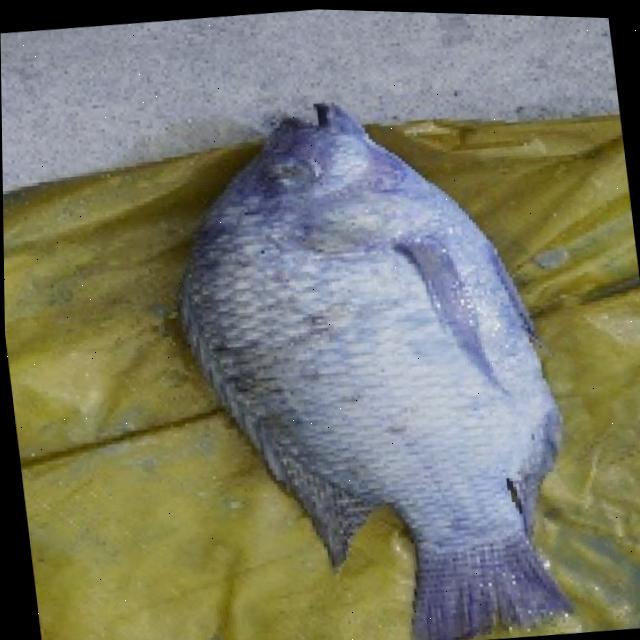Non-Fresh: (147, 61, 602, 576)
